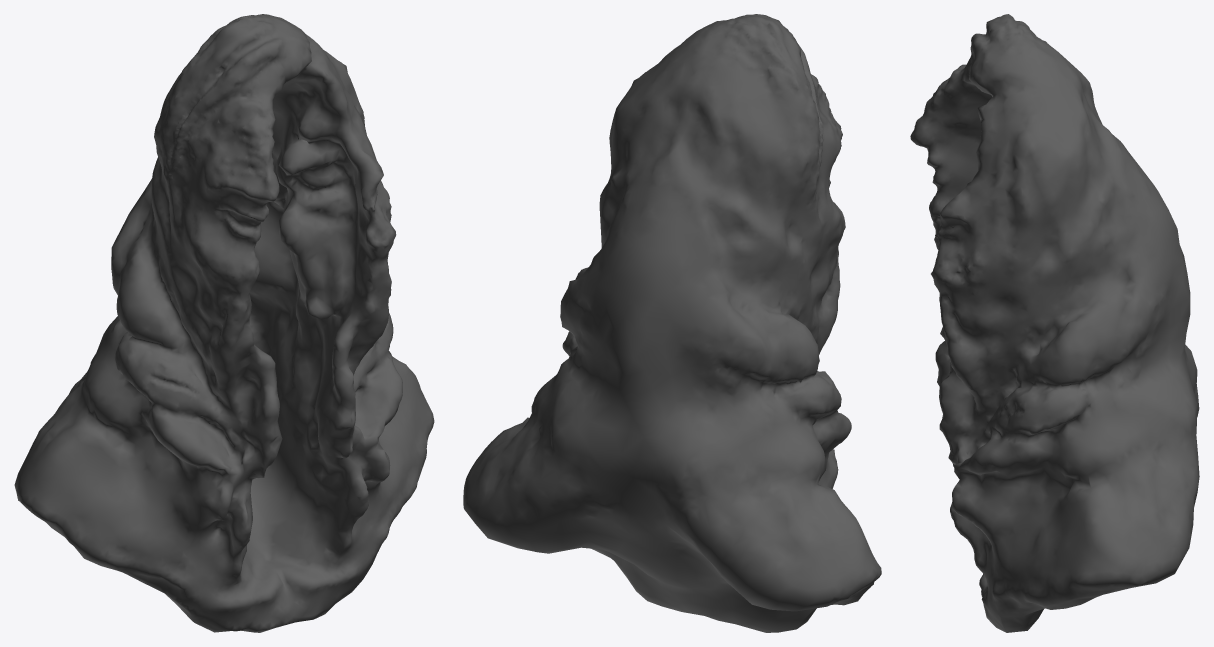
The model's file is ryuin.glb.
3 renders of one model, left to right at view 1: azimuth 30°, elevation 25°; view 2: azimuth 150°, elevation 25°; view 3: azimuth 270°, elevation 25°, orthographic. The views are drawn at different scales.
Visible parts, largest first — view 1: 구체; view 2: 구체; view 3: 구체.
Part boxes in pixels (<box>): 구체: <box>14,14,434,632</box>; 구체: <box>463,14,881,632</box>; 구체: <box>910,14,1199,632</box>.
Bounding box in the file's own units: 7.66 × 11.11 × 5.04.
Materials: 1 (1 with a texture image).
